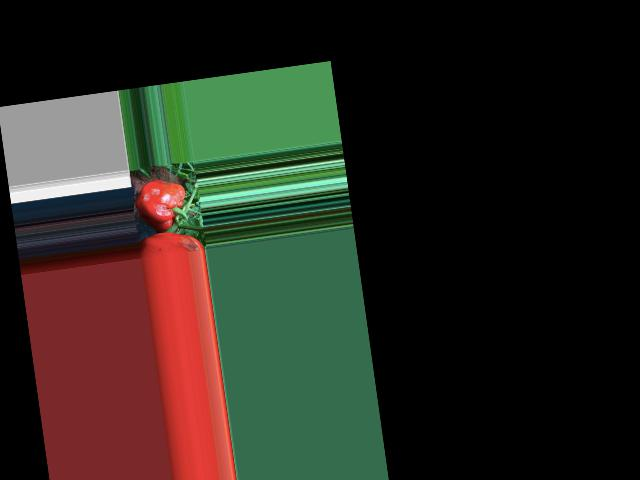bell_pepper: (130, 178, 194, 233)
